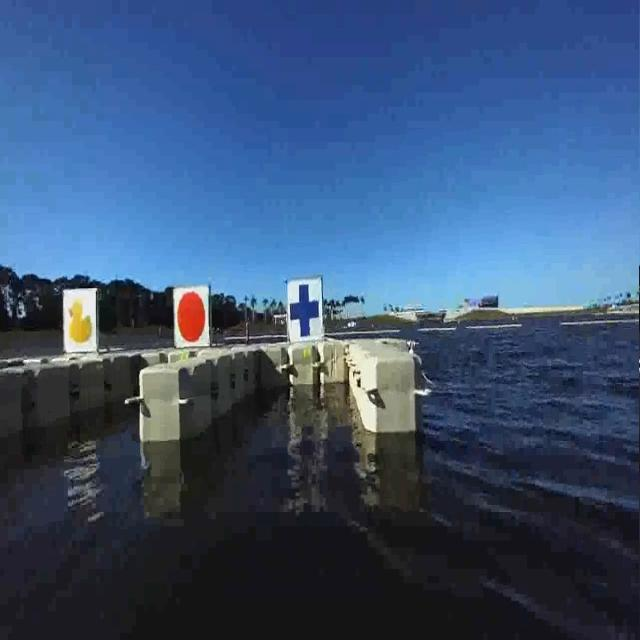blue-cross: (284, 273, 328, 346)
red-dot: (168, 286, 212, 345)
yellow-duck: (58, 284, 100, 358)
